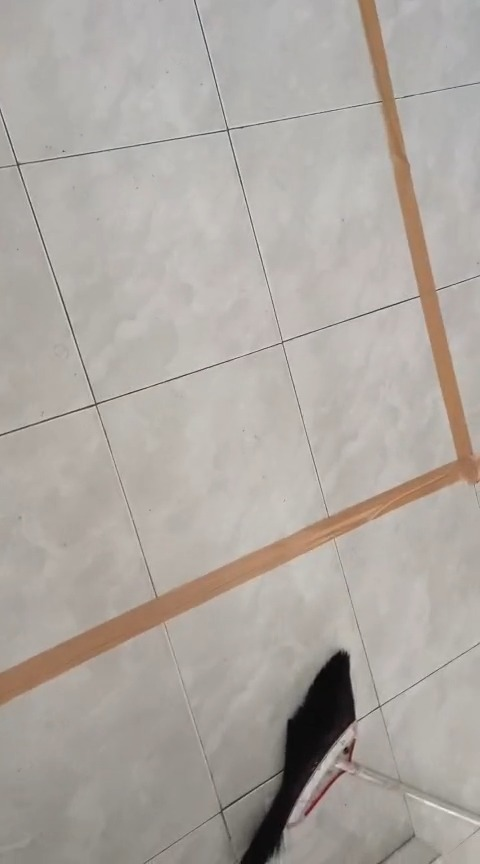floor marking: (0, 0, 479, 705)
